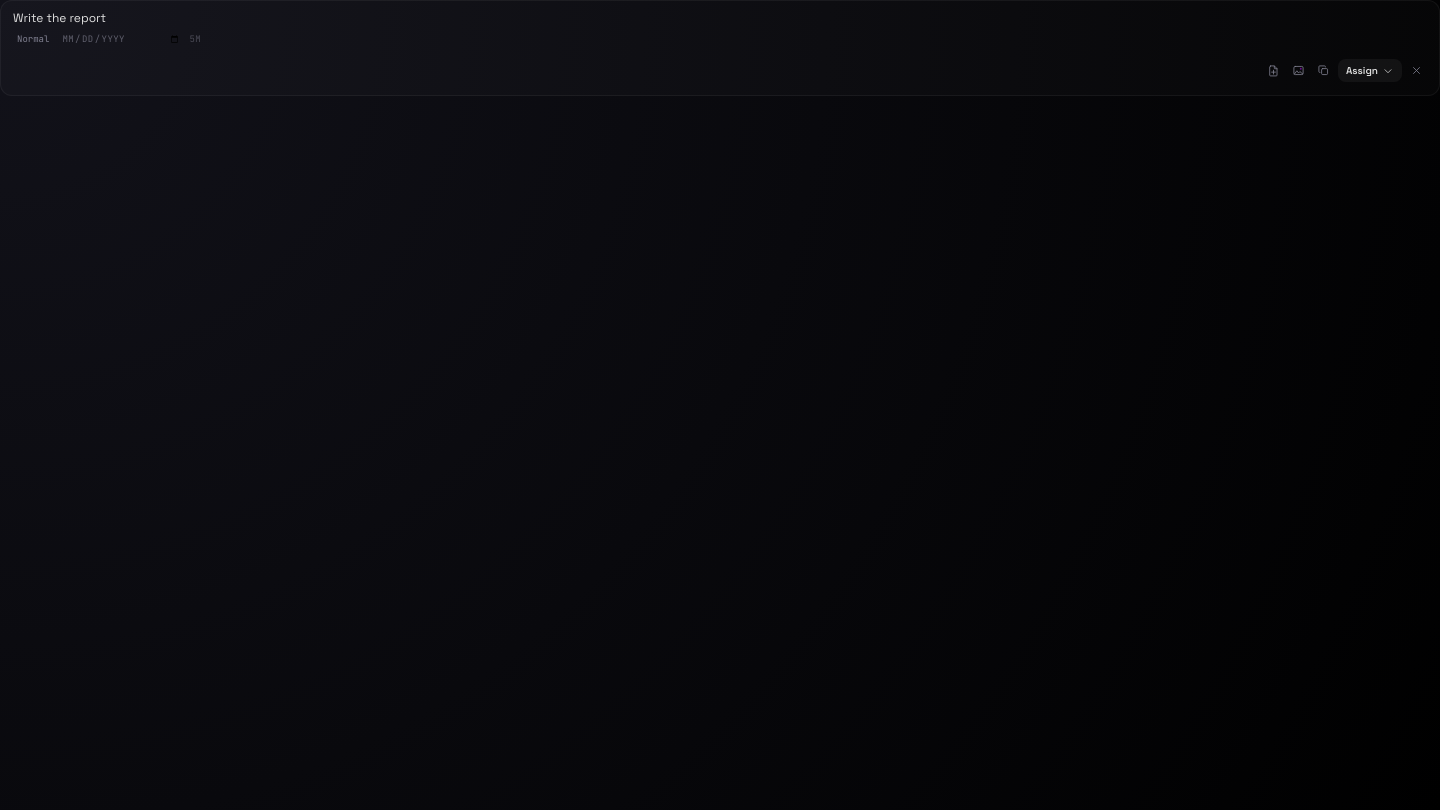
Test case: InboxItemRow › an unsorted (unassigned) item › says so when no project can be assigned to
Click the button "Assign" at (1370, 70), box x1=1338 y1=59 x2=1402 y2=82
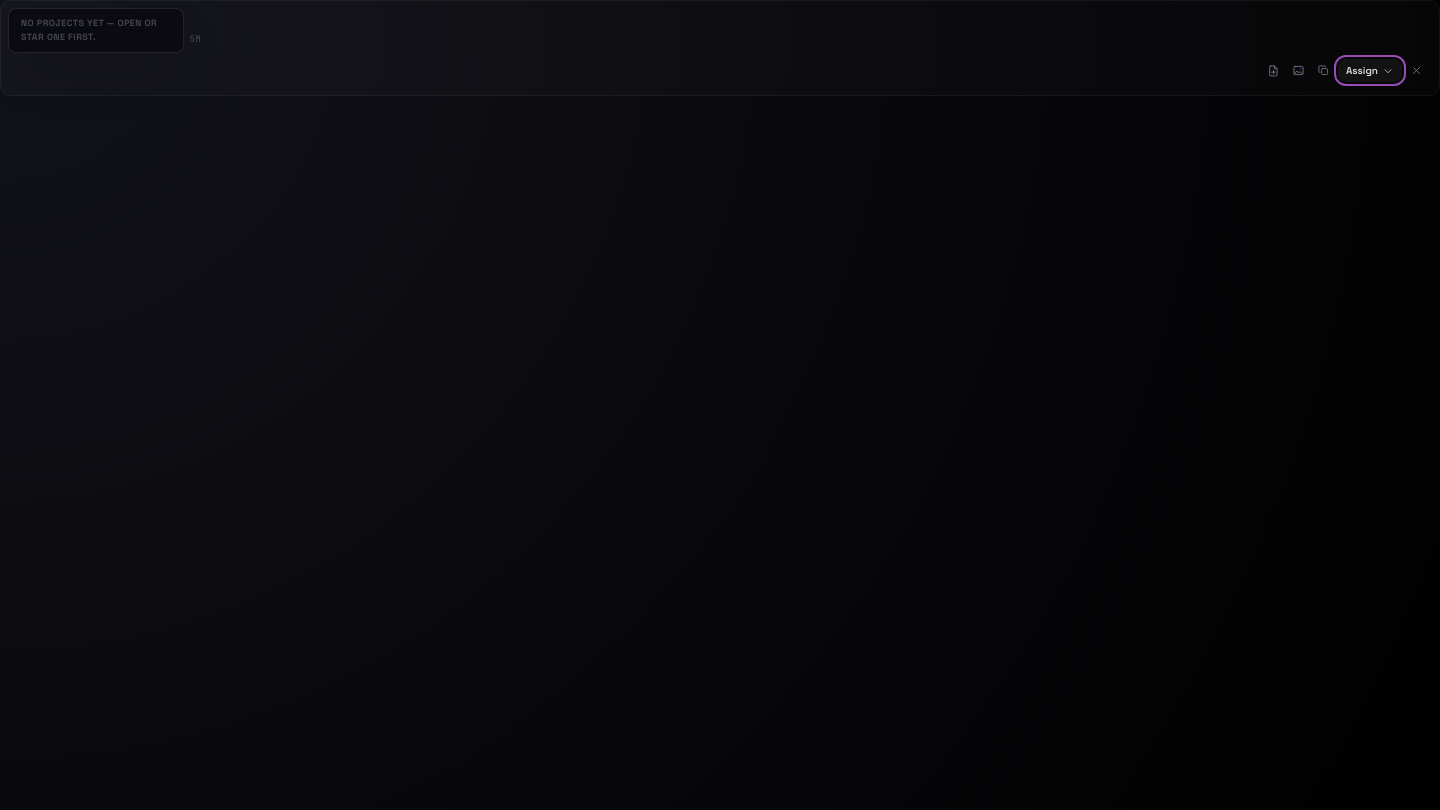
Now the text "No projects yet — open or star one first." is shown, box x1=21 y1=17 x2=157 y2=42
